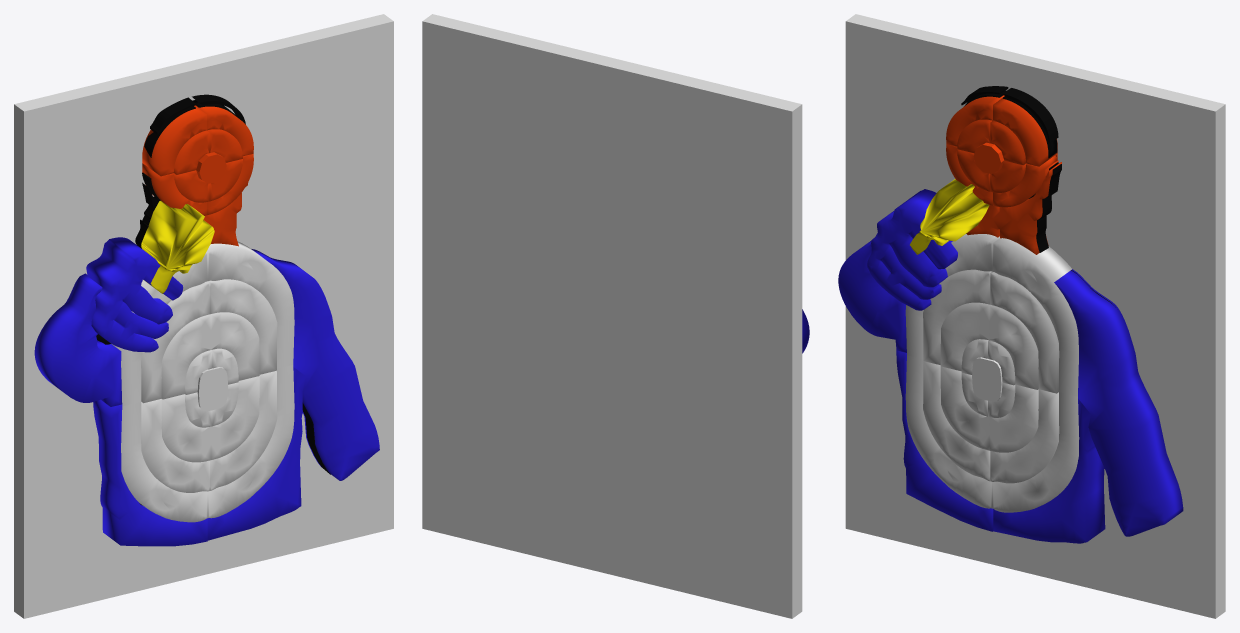
The model's file is HumanTarget.fbx.
3 views of the same model, side by side, from view 1: azimuth 30°, elevation 25°; view 2: azimuth 150°, elevation 25°; view 3: azimuth 330°, elevation 25° (orthographic).
Parts seen in each view (by area): view 1: Cube, LeftArm, 6, 7, 8, RightArm, Hand, Belly, 8Head, Gun, 9Head, Captura de pantalla 2026-02-01 142459 copia (+4 smaller); view 2: Cube; view 3: Cube, LeftArm, 6, 7, 8, Hand, 8Head, RightArm, Belly, 9Head, Gun, Neck (+4 smaller).
Part boxes in pixels (x1,y1,x2,y2): Cube: (14, 14, 393, 618); LeftArm: (207, 249, 379, 540); 6: (112, 241, 294, 522); 7: (141, 279, 277, 492); 8: (161, 312, 259, 462); RightArm: (34, 273, 122, 406); Hand: (86, 237, 183, 352); Belly: (93, 399, 207, 546); 8Head: (142, 105, 253, 215); Gun: (141, 200, 214, 293); 9Head: (173, 129, 242, 202); Captura de pantalla 2026-02-01 142459 copia: (96, 94, 330, 505); Cube: (422, 14, 802, 618); Cube: (845, 14, 1225, 618); LeftArm: (993, 269, 1183, 543); 6: (905, 234, 1079, 512); 7: (923, 269, 1059, 483); 8: (940, 302, 1038, 452); Hand: (867, 189, 957, 310); 8Head: (946, 95, 1057, 207); RightArm: (838, 232, 906, 352); Belly: (896, 350, 993, 531); 9Head: (957, 119, 1026, 192); Gun: (910, 179, 989, 254); Neck: (966, 160, 1061, 254).
Bounding box in the file's own units: 85.57 × 112 × 17.55.
